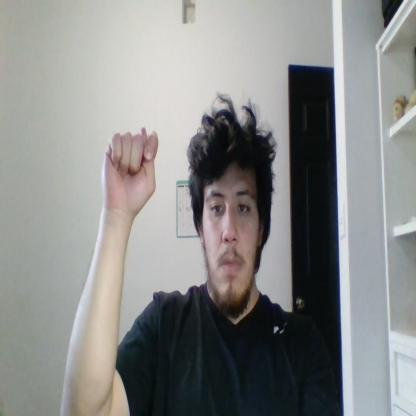T: (102, 126, 159, 214)
